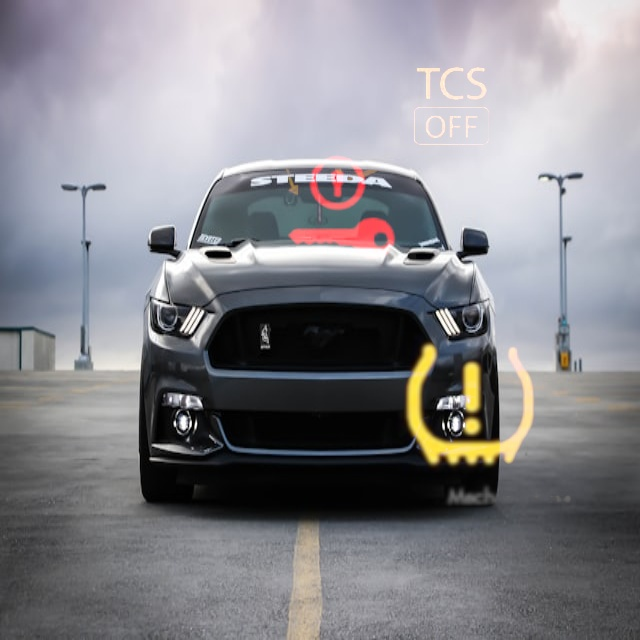symbol: (363, 297, 581, 515), (256, 67, 420, 231), (267, 134, 416, 283), (390, 45, 516, 171)
